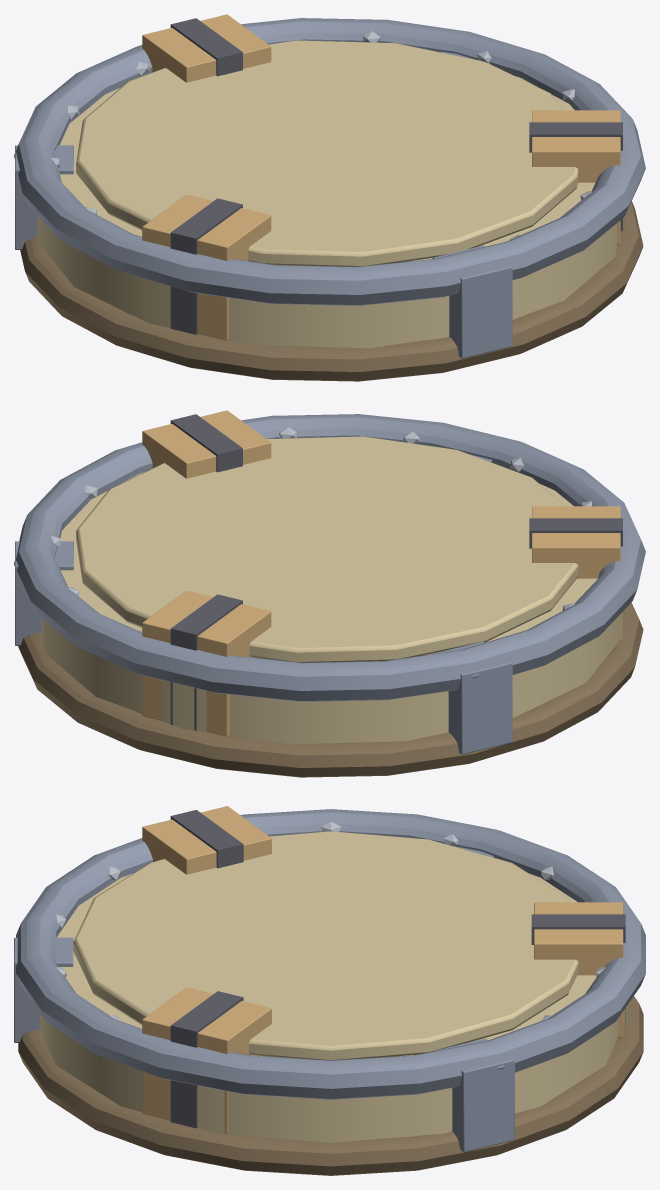
File: tower_flame_base.glb
3 views of the same model, one above another, from view 1: azimuth 30°, elevation 25°; view 2: azimuth 150°, elevation 25°; view 3: azimuth 270°, elevation 25° (orthographic).
Parts seen in each view (by area): view 1: T_FDeck, T_FRim, T_FEarthRim, T_FBase, T_FCrate0, T_FTab2, T_FCrate2, T_FCrate1, T_FCrate0b, T_FCrate2b, T_FTab1, T_FCrate1b; view 2: T_FDeck, T_FRim, T_FBase, T_FEarthRim, T_FCrate2, T_FTab1, T_FCrate1, T_FCrate0, T_FCrate2b, T_FCrate1b, T_FTab0, T_FCrate0b; view 3: T_FDeck, T_FRim, T_FEarthRim, T_FBase, T_FCrate1, T_FTab0, T_FCrate2, T_FCrate0, T_FCrate1b, T_FCrate0b, T_FTab2, T_FCrate2b.
Boxes of the visible parts, x1,y1,x2,y2 form: T_FDeck: [76, 40, 578, 266]; T_FRim: [14, 18, 645, 305]; T_FEarthRim: [20, 201, 643, 381]; T_FBase: [37, 76, 616, 348]; T_FCrate0: [142, 194, 271, 340]; T_FTab2: [432, 245, 512, 358]; T_FCrate2: [142, 14, 271, 82]; T_FCrate1: [532, 110, 620, 244]; T_FCrate0b: [170, 198, 242, 334]; T_FCrate2b: [170, 18, 242, 76]; T_FTab1: [15, 145, 73, 249]; T_FCrate1b: [529, 122, 622, 230]; T_FDeck: [76, 436, 578, 662]; T_FRim: [14, 414, 645, 701]; T_FBase: [41, 472, 622, 744]; T_FEarthRim: [18, 602, 643, 777]; T_FCrate2: [142, 590, 271, 736]; T_FTab1: [433, 641, 512, 754]; T_FCrate1: [142, 410, 271, 478]; T_FCrate0: [532, 506, 620, 640]; T_FCrate2b: [170, 594, 242, 730]; T_FCrate1b: [170, 414, 242, 472]; T_FTab0: [15, 541, 73, 645]; T_FCrate0b: [529, 518, 622, 548]; T_FDeck: [73, 831, 578, 1060]; T_FRim: [16, 809, 645, 1099]; T_FEarthRim: [18, 996, 643, 1175]; T_FBase: [39, 873, 628, 1142]; T_FCrate1: [142, 987, 271, 1134]; T_FTab0: [435, 1038, 514, 1152]; T_FCrate2: [534, 902, 623, 1037]; T_FCrate0: [142, 806, 271, 874]; T_FCrate1b: [170, 991, 243, 1128]; T_FCrate0b: [170, 810, 243, 868]; T_FTab2: [14, 937, 73, 1042]; T_FCrate2b: [531, 914, 625, 1023].
Bounding box in the file's own units: 2.57 × 0.5694 × 2.55.
